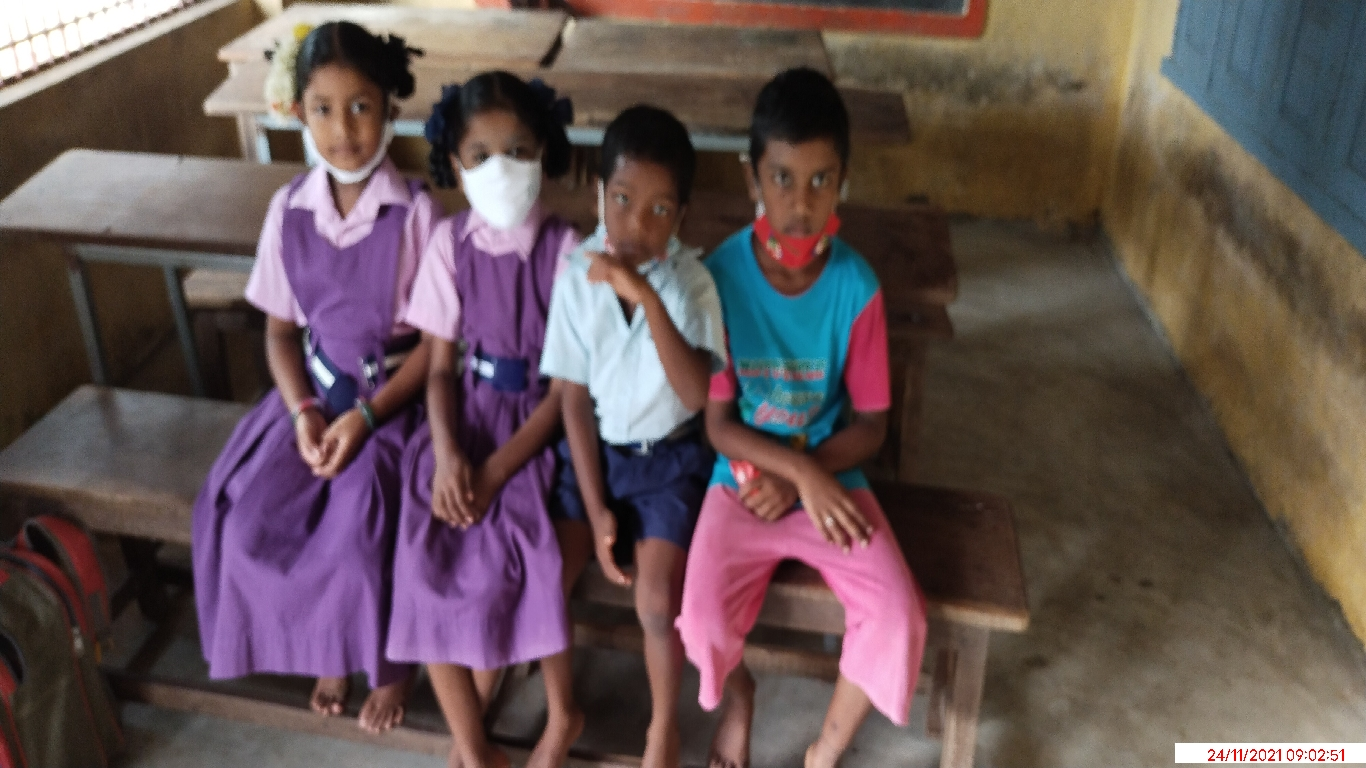student: (214, 11, 420, 394), (725, 58, 888, 454), (420, 72, 578, 450), (576, 103, 730, 439)
